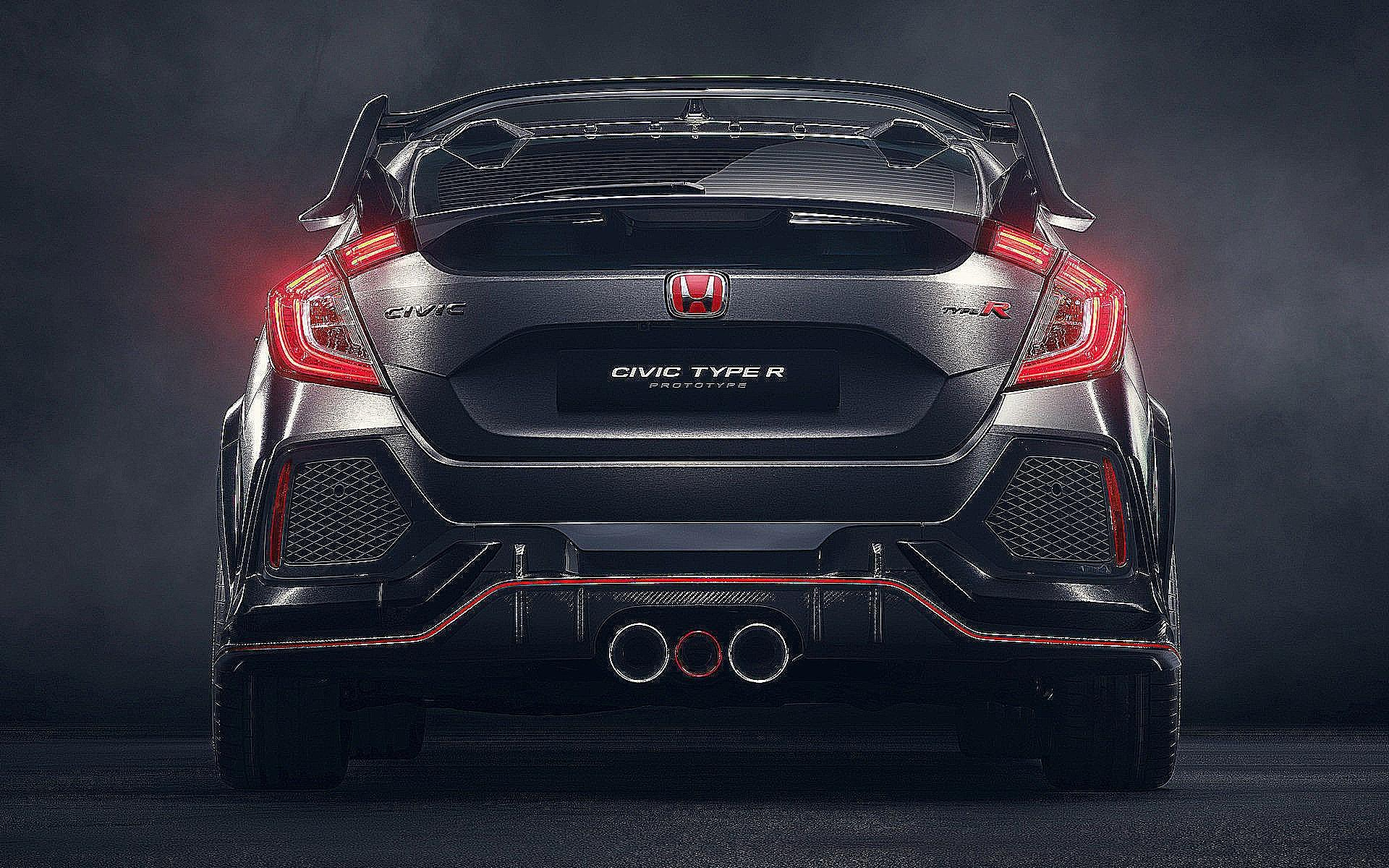Rear bumper: (206, 381, 1191, 696), (327, 181, 1066, 474)
Rear light - -L-: (262, 213, 435, 399)
Rear light - -R-: (970, 209, 1136, 404)
